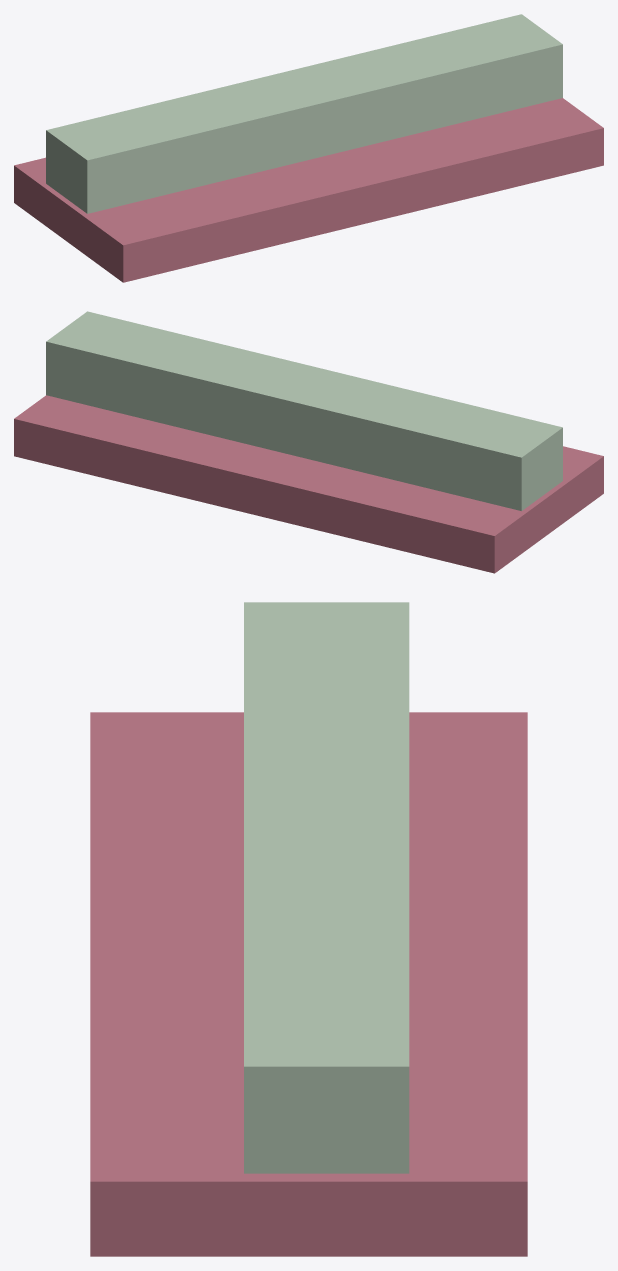
Rendered from 239531_pred.glb.
3 renders of one model, top to bottom at view 1: azimuth 30°, elevation 25°; view 2: azimuth 150°, elevation 25°; view 3: azimuth 270°, elevation 25°, orthographic. The views are drawn at different scales.
Visible parts, largest first — view 1: world; view 2: world; view 3: world.
Part boxes in pixels (bbox=[...]): world: bbox=[14, 14, 603, 282]; world: bbox=[14, 311, 603, 573]; world: bbox=[90, 602, 527, 1256].
Bounding box in the file's own units: 9.4 × 1.75 × 3.7.
